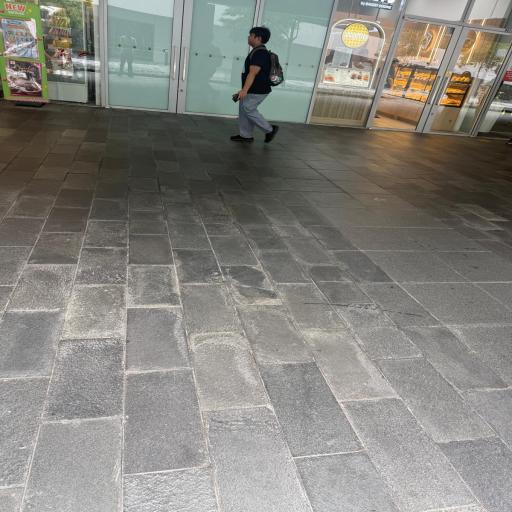person_left: (230, 26, 284, 144)
